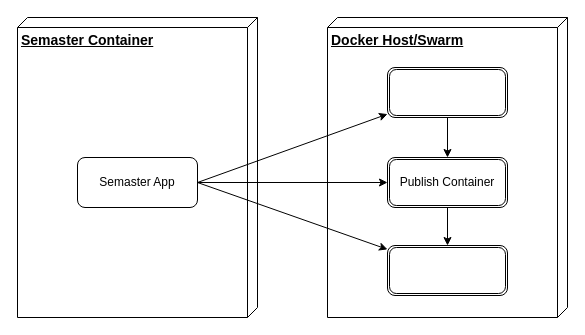
This 585x335 diagram has some shape labels left out. The centre of each missing label's shape, as x and y in pixels:
"Build / Test Containers" goes at point 447,92.
"Deploy Container" goes at point 447,270.
